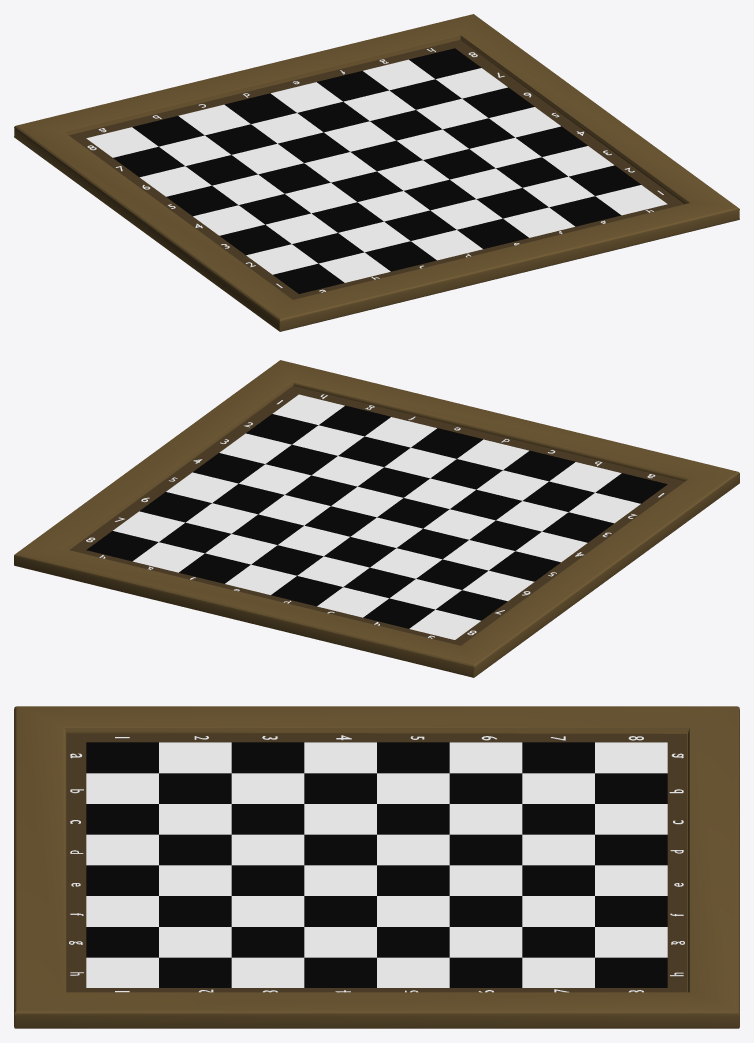
Rendered from chessbase.fbx.
The picture shows the model from 3 angles, top to bottom: view 1: azimuth 30°, elevation 25°; view 2: azimuth 150°, elevation 25°; view 3: azimuth 270°, elevation 25°; orthographic projection. The views are drawn at different scales.
Visible parts, largest first — view 1: bord; view 2: bord; view 3: bord.
Part boxes in pixels (box(x1,y1,x2,y2)): bord: box(14, 14, 739, 331); bord: box(14, 360, 739, 677); bord: box(14, 706, 739, 1028).
Bounding box in the file's own units: 250 × 6.79 × 250.
